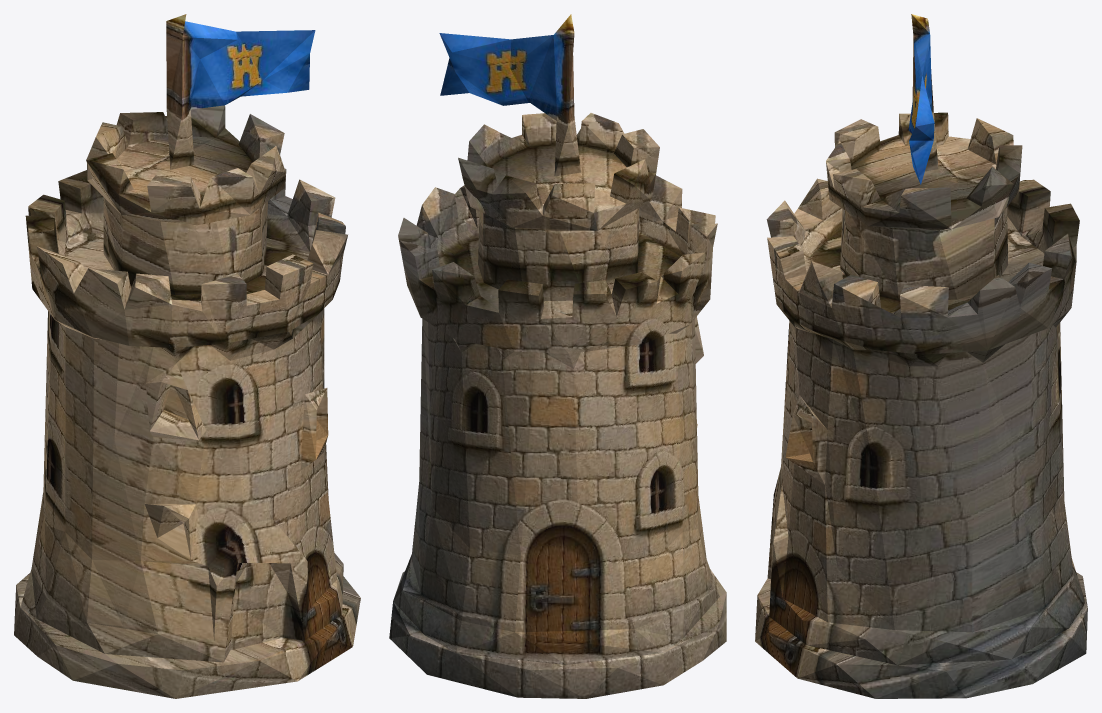
Rendered from tower.glb.
3 views of the same model, side by side, from view 1: azimuth 30°, elevation 25°; view 2: azimuth 150°, elevation 25°; view 3: azimuth 270°, elevation 25° (orthographic).
Visible parts, largest first — view 1: geometry_0; view 2: geometry_0; view 3: geometry_0.
Boxes of the visible parts, x1,y1,x2,y2 form: geometry_0: [14, 14, 360, 698]; geometry_0: [389, 14, 726, 698]; geometry_0: [755, 14, 1087, 698].
Size of the model in its own units: 4.95 by 9.96 by 4.91.
Materials: 1 (1 with a texture image).
